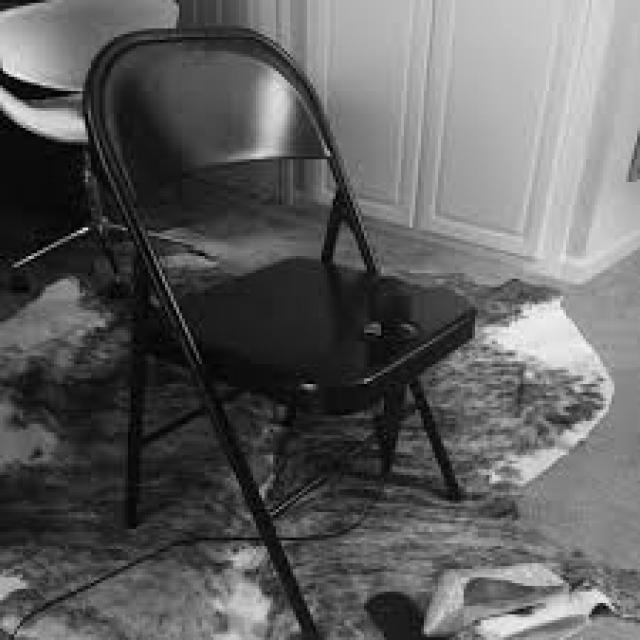chair: (84, 24, 474, 564)
